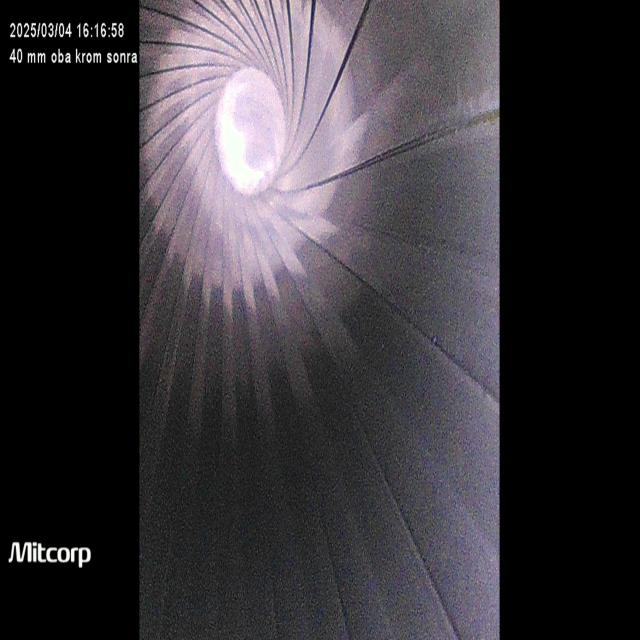hata_8.1: (415, 76, 501, 176)
